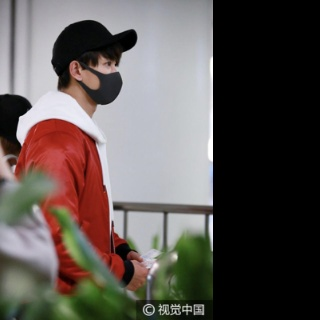with_mask: (86, 58, 124, 107)
